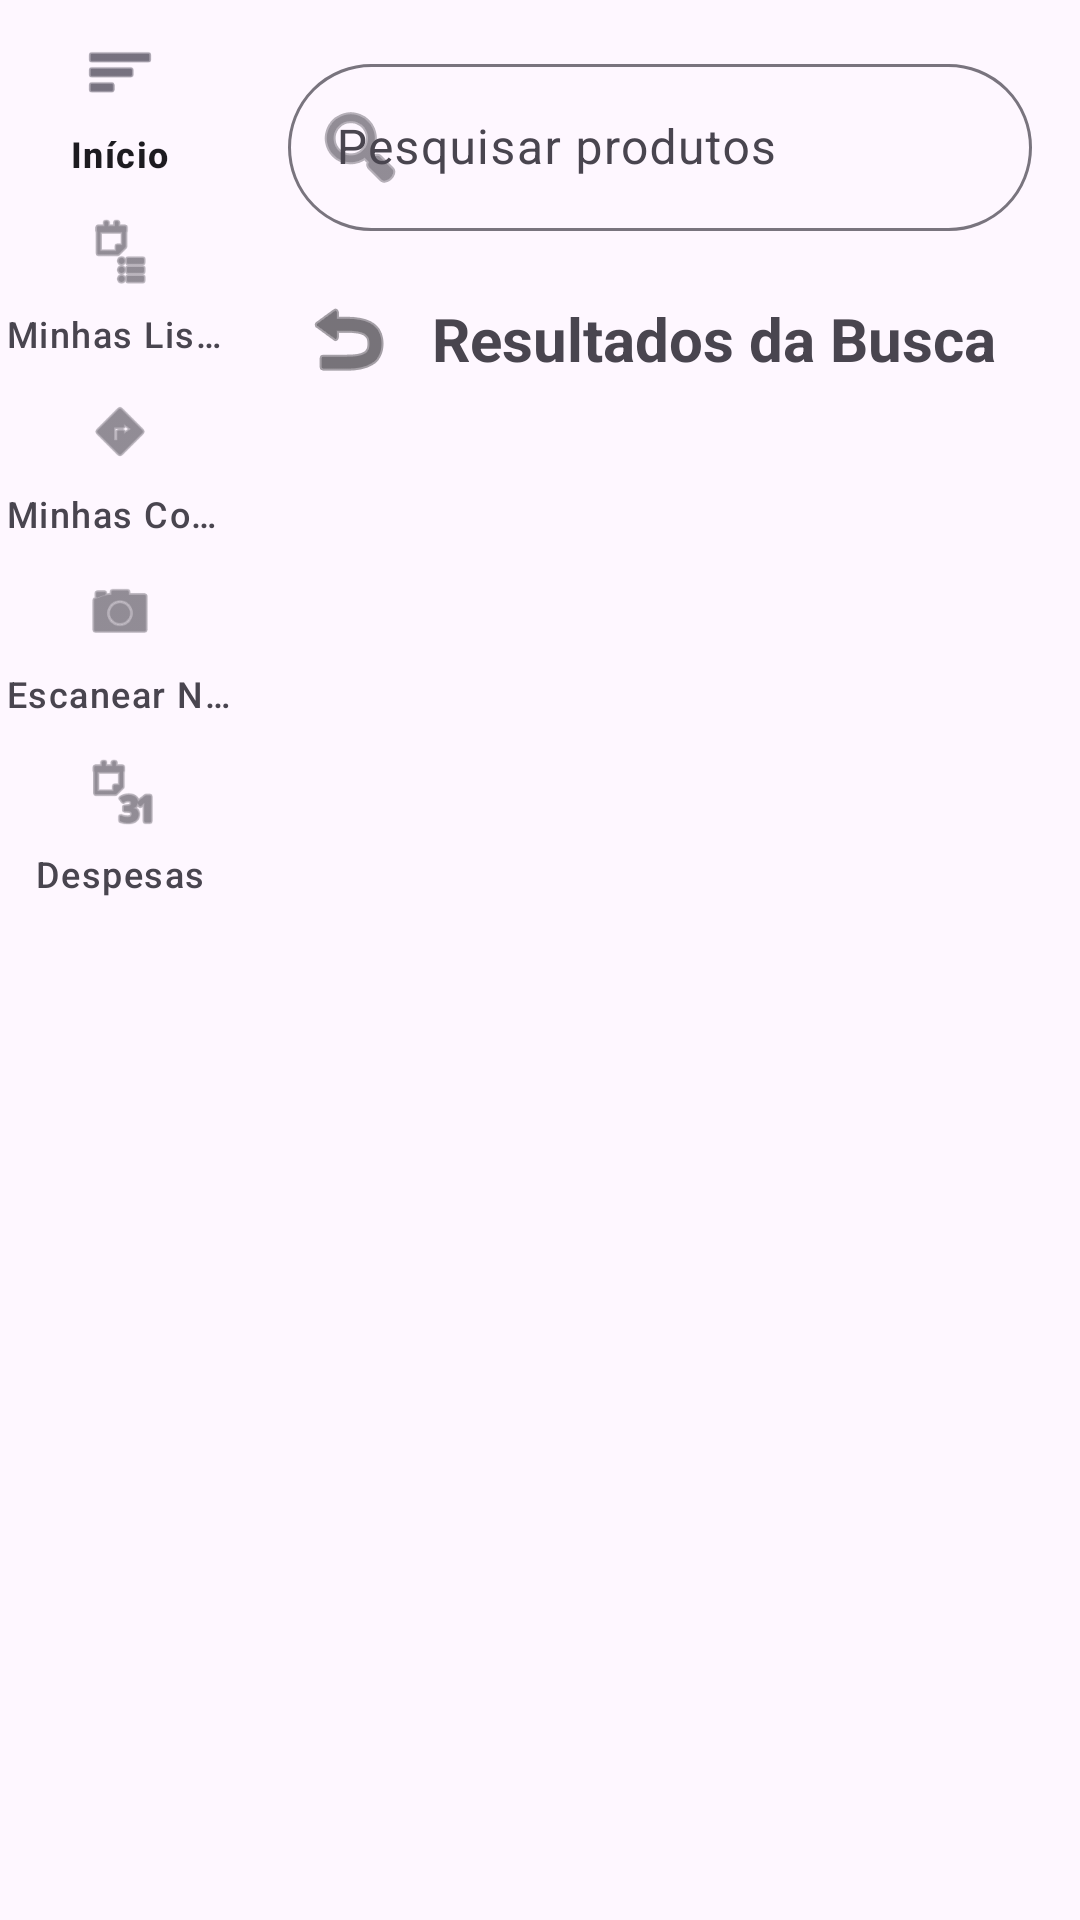

Named icons in this screenshot (1080px×1920px) and their bounding boxes, (x1, y1, x2, y2):
revert: (315, 308, 384, 371)
